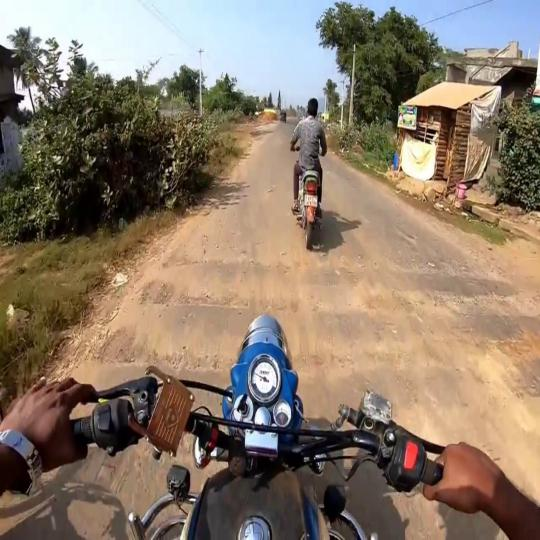Speed Bump: (146, 259, 516, 301), (300, 356, 540, 402), (288, 305, 540, 348), (111, 298, 245, 336), (70, 358, 232, 383)
